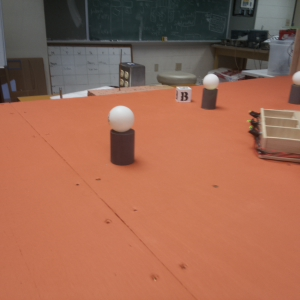obstacle: (108, 105, 136, 166), (201, 74, 219, 110), (289, 70, 300, 106)
side: (246, 107, 300, 161)
